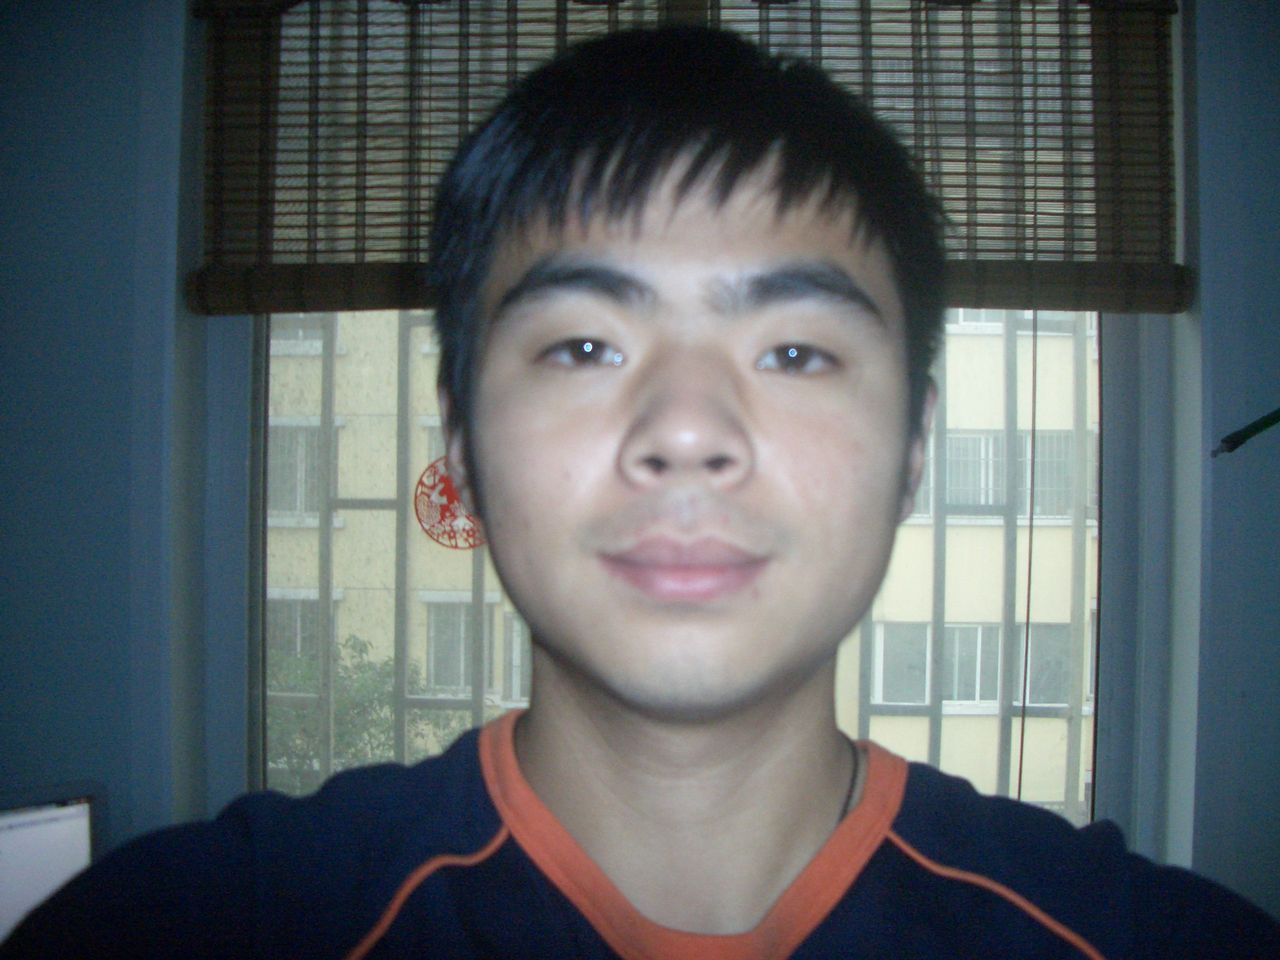unmask: (491, 202, 908, 683)
